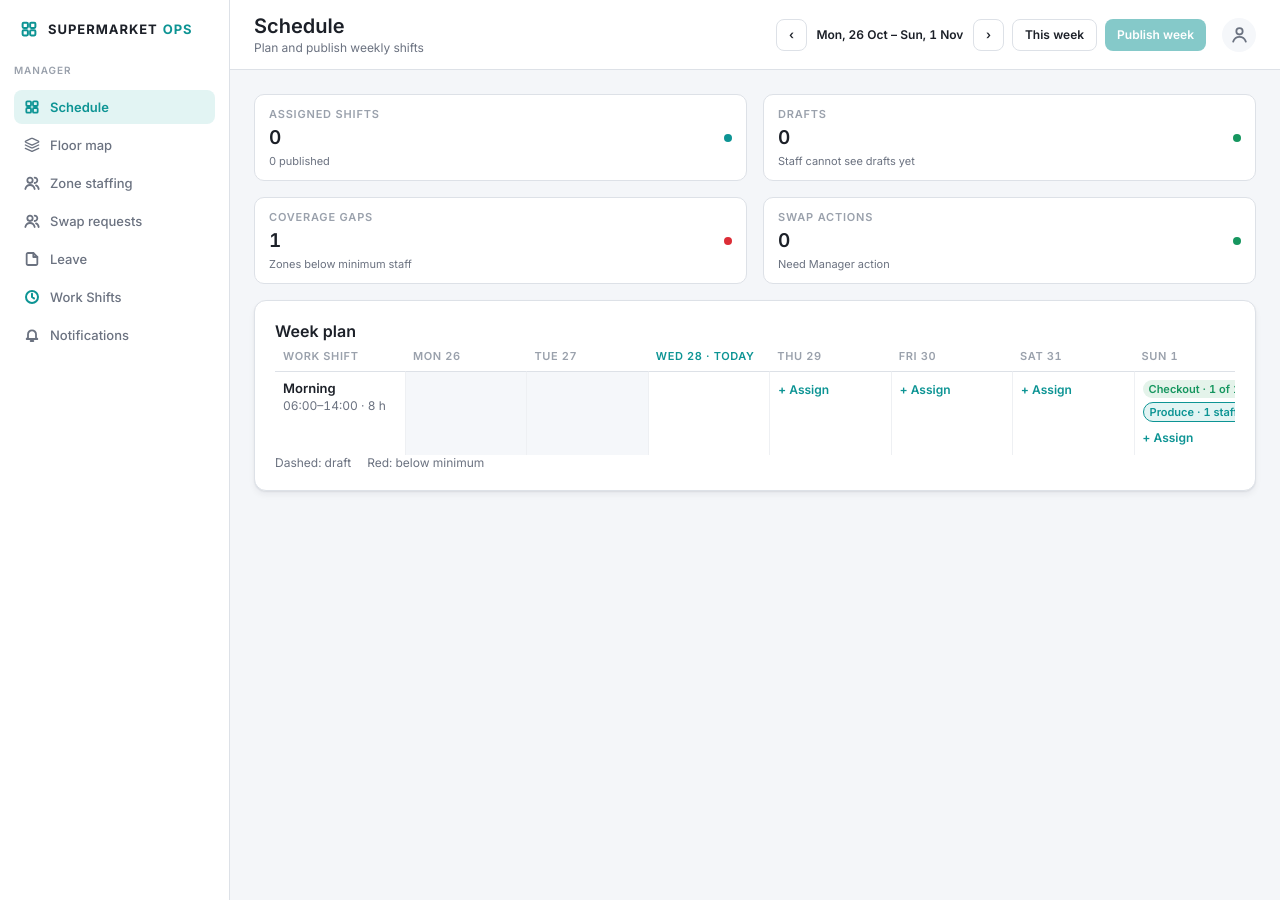
it: Manager console › assigns an eligible Staff member as a draft; ineligible ones show why
Step 1. Click the button "+ Assign" below "Produce" → (1168, 438), box [1142,428,1193,447]
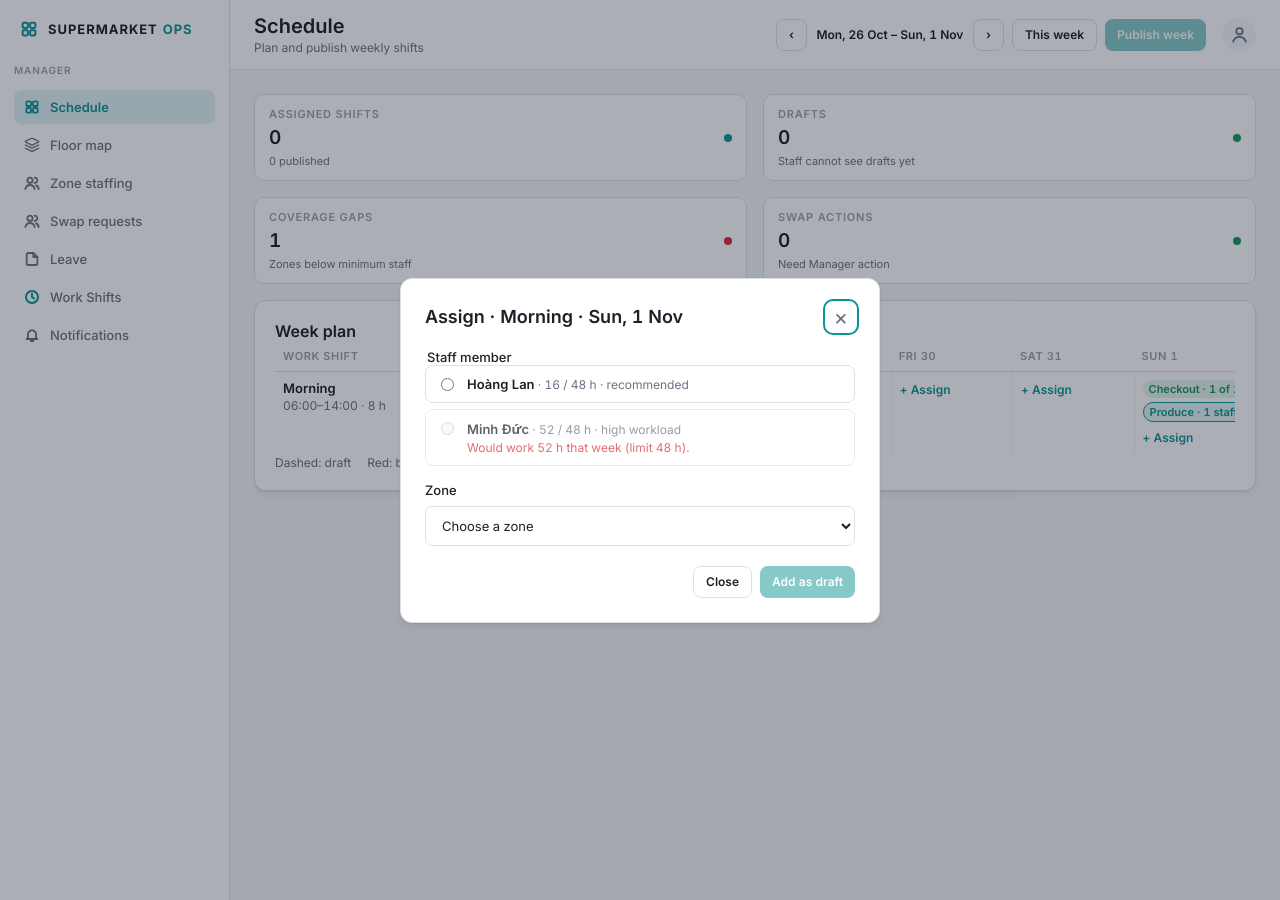
Now the radio button labelled "Minh Đức" is disabled, box [441,422,454,434]
Now the text "Would work 52 h that week (limit 48 h)." is shown, box [467,440,690,454]
Now the dropdown labelled "Zone" shows "Choose a zone", box [425,506,855,546]
Step 2. Click the radio button labelled "Hoàng Lan · 16 / 48 h · recommended" → (448, 384), box [441,378,454,390]
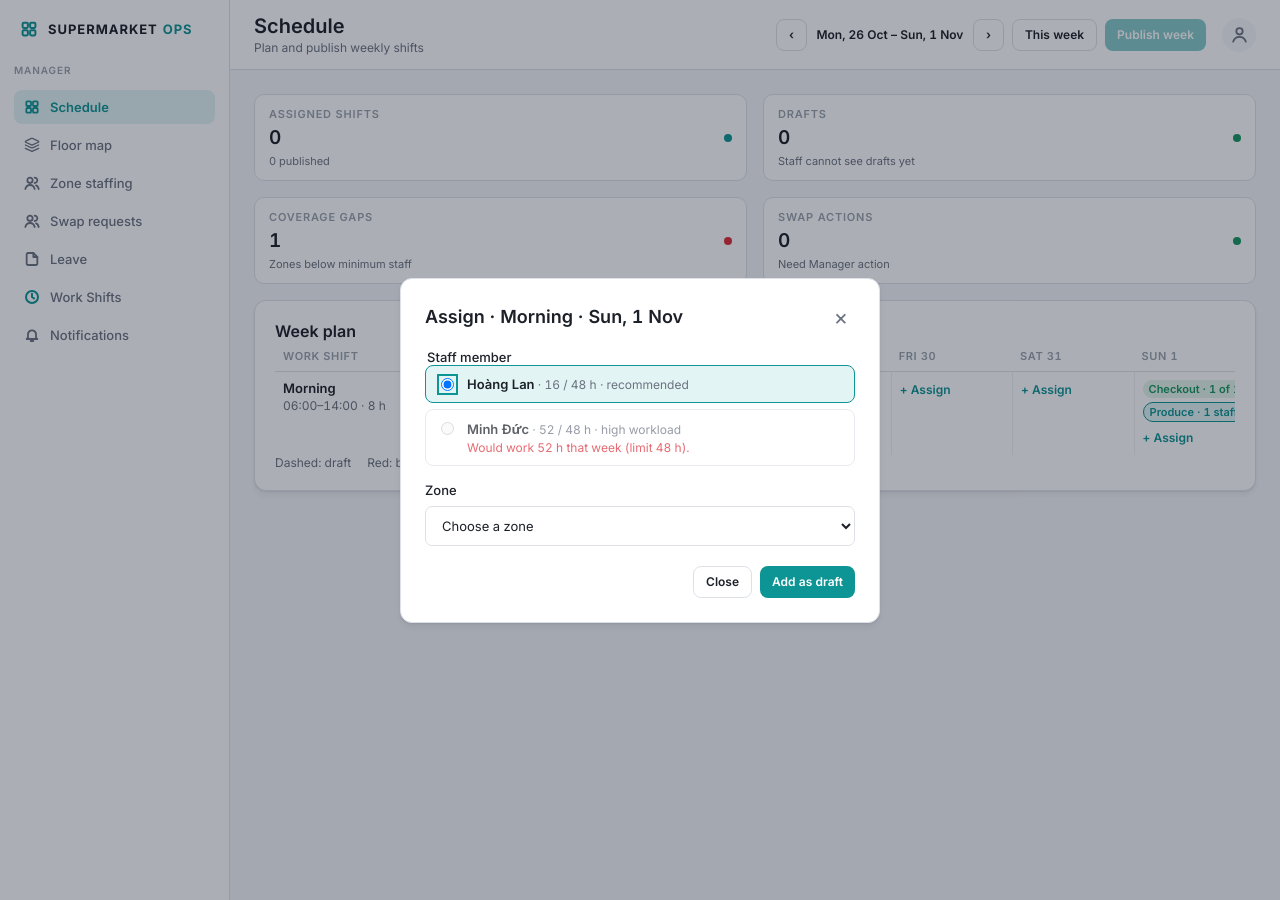
Step 3. Click the button "Add as draft" → (808, 582), box [760,566,855,598]
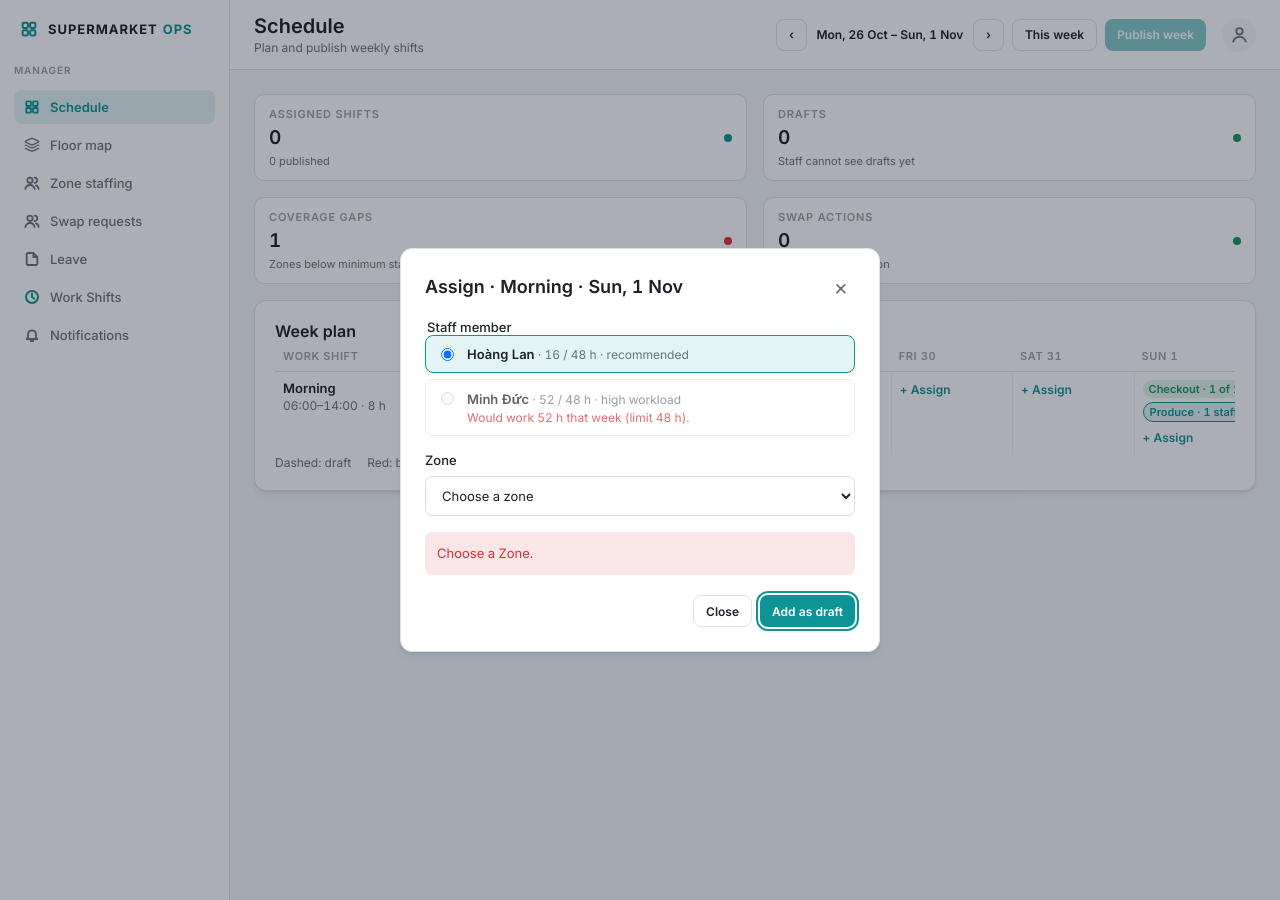
Now the message reads "Choose a Zone.", box [437,545,533,561]
Step 4. Select "Produce" in the dropdown labelled "Zone" → (640, 496), box [425,476,855,516]
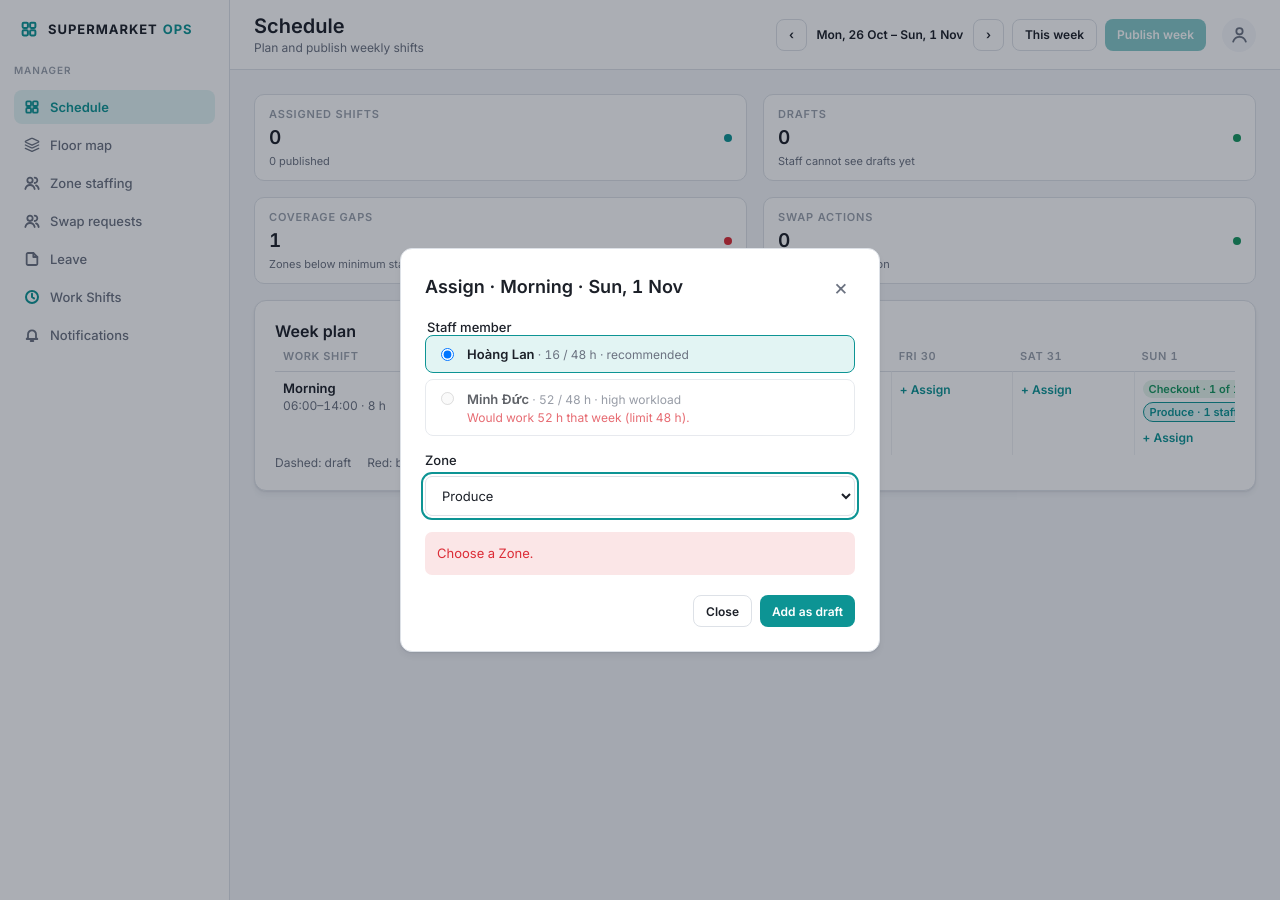
Step 5. Click the button "Add as draft" → (808, 611), box [760,595,855,627]
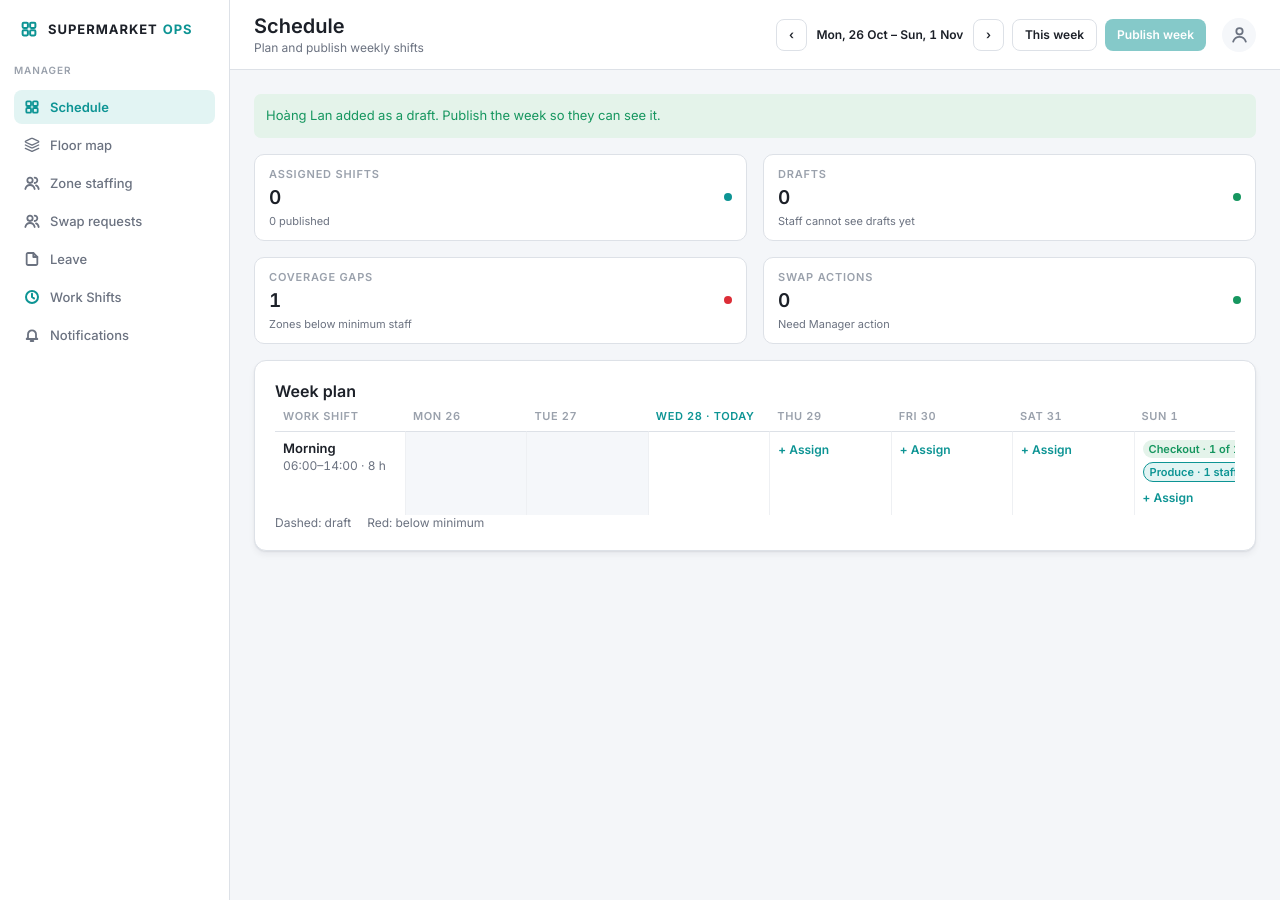
Now the message shows "Hoàng Lan added as a draft", box [266,107,660,123]
